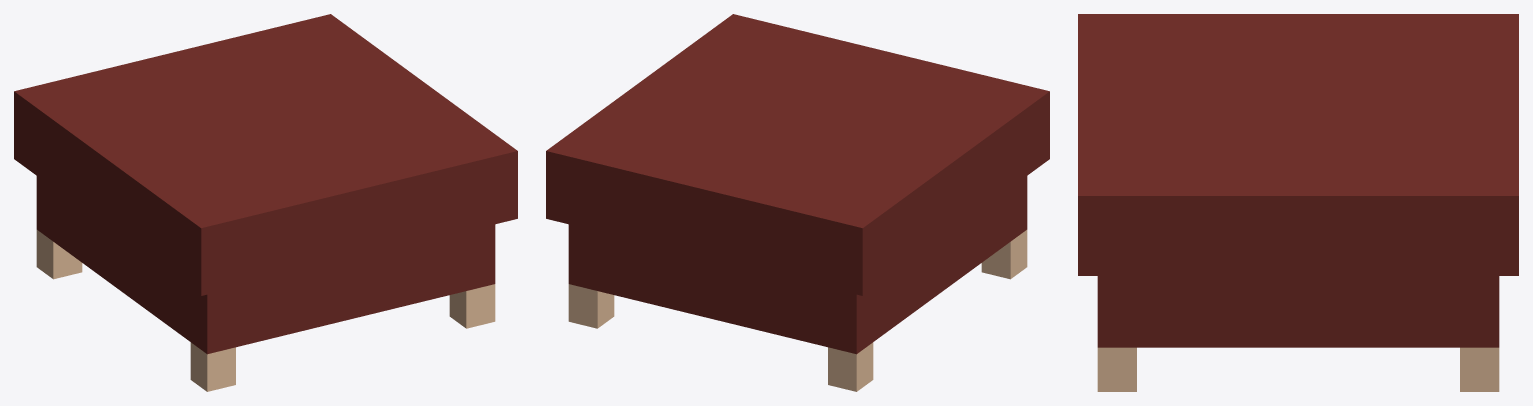
Rendered from Furniture_Futon.fbx.
The picture shows the model from 3 angles, left to right: view 1: azimuth 30°, elevation 25°; view 2: azimuth 150°, elevation 25°; view 3: azimuth 270°, elevation 25°; orthographic projection. The views are drawn at different scales.
Parts seen in each view (by area): view 1: loungeSofaOttoman; view 2: loungeSofaOttoman; view 3: loungeSofaOttoman.
Boxes of the visible parts, x1,y1,x2,y2 form: loungeSofaOttoman: [14, 14, 517, 391]; loungeSofaOttoman: [546, 14, 1049, 391]; loungeSofaOttoman: [1078, 14, 1518, 391].
Bounding box in the file's own units: 122 × 63.78 × 125.
